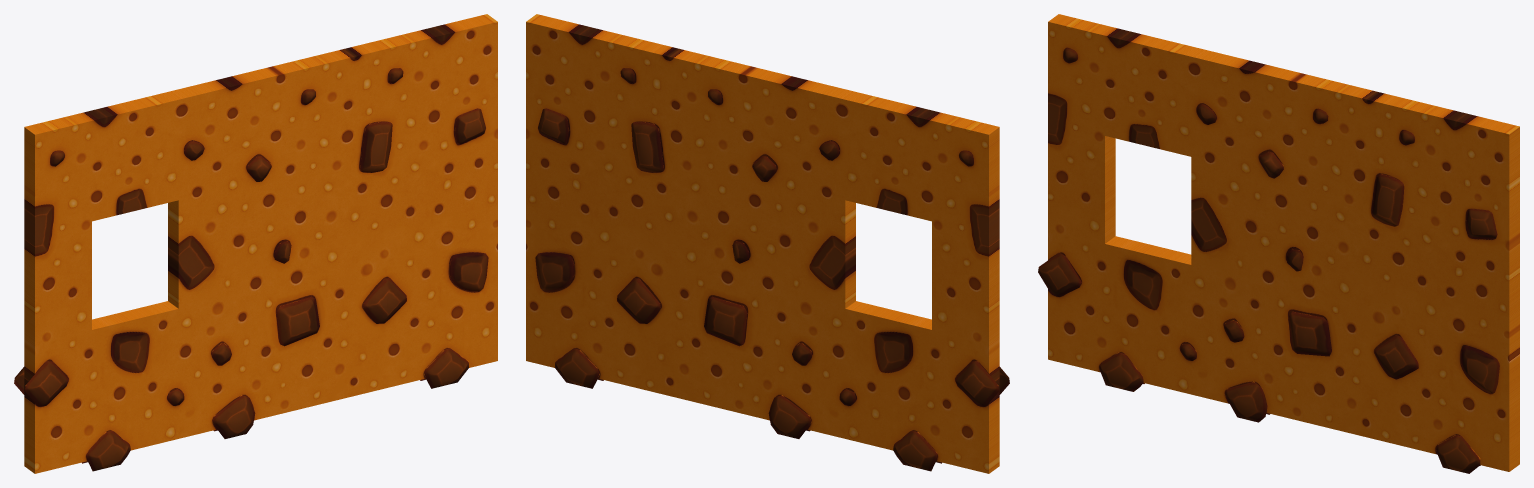
The model's file is Wall_004.fbx.
The picture shows the model from 3 angles, left to right: view 1: azimuth 30°, elevation 25°; view 2: azimuth 150°, elevation 25°; view 3: azimuth 330°, elevation 25°; orthographic projection.
Visible parts, largest first — view 1: Wall_004; view 2: Wall_004; view 3: Wall_004.
Part boxes in pixels (x1,y1,x2,y2): Wall_004: (14,14,497,473); Wall_004: (526,14,1009,473); Wall_004: (1038,14,1519,473).
Size of the model in its own units: 5.11 by 3.62 by 0.3052.
